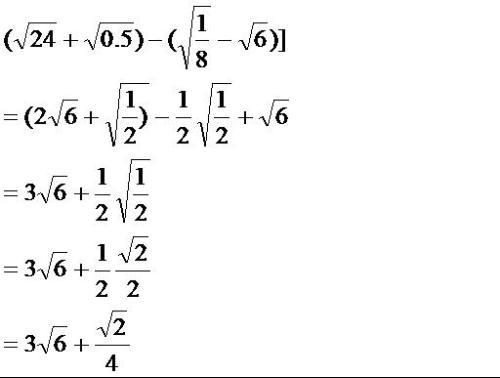division: (89, 342, 131, 354), (118, 113, 142, 124), (114, 267, 150, 274), (91, 188, 112, 199), (173, 113, 194, 123), (129, 190, 151, 199), (190, 37, 208, 47), (213, 113, 230, 121)
sqrt: (108, 79, 152, 149), (193, 79, 233, 150), (113, 156, 153, 226), (180, 3, 216, 73), (83, 17, 135, 56), (13, 18, 58, 52), (45, 97, 84, 128), (257, 96, 291, 131), (35, 322, 68, 356), (36, 172, 69, 205), (238, 19, 270, 53), (95, 308, 131, 338), (120, 234, 152, 264)
